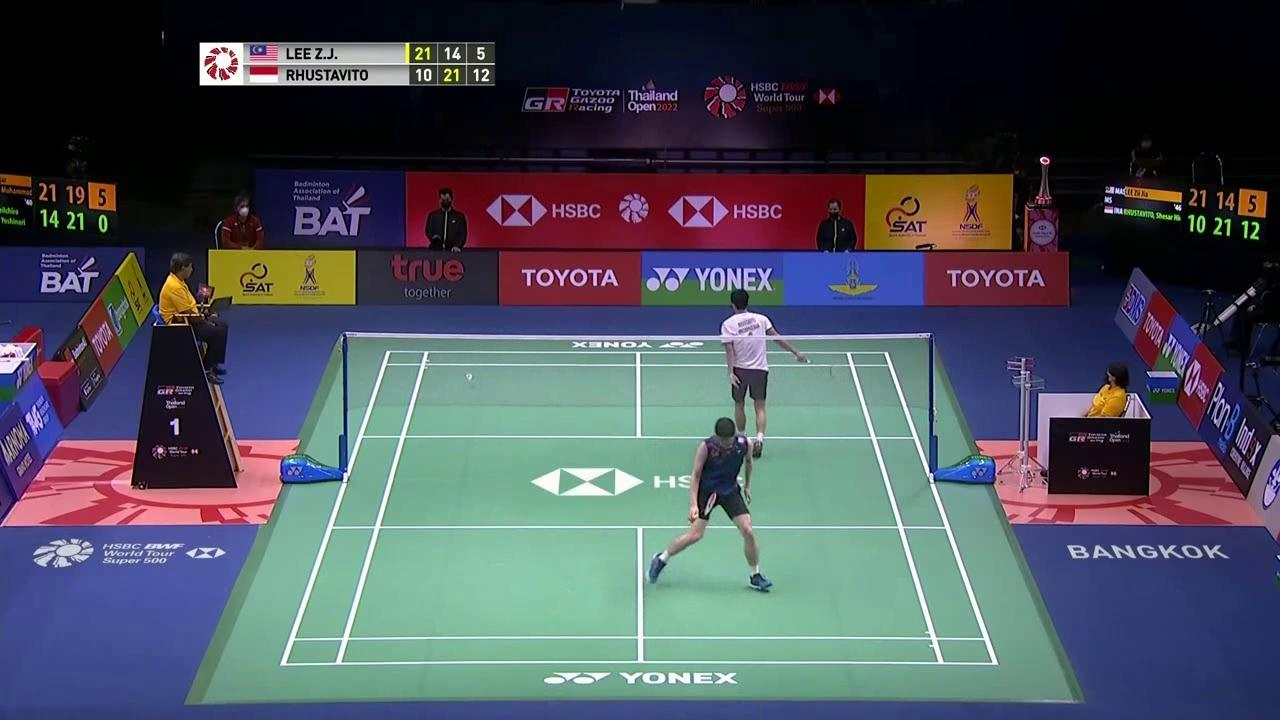racket: (793, 354, 854, 383), (689, 491, 721, 521)
shuttle: (465, 369, 477, 388)
